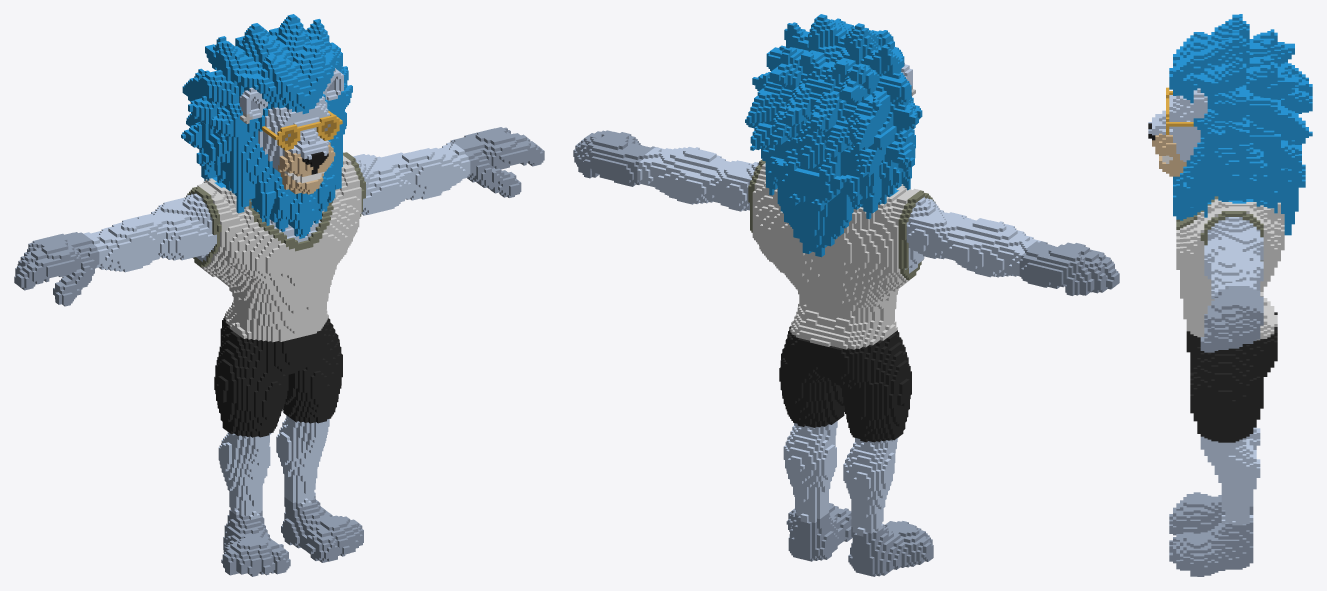
File: 208-BVIsKwq5.glb
3 views of the same model, side by side, from view 1: azimuth 30°, elevation 25°; view 2: azimuth 150°, elevation 25°; view 3: azimuth 270°, elevation 25° (orthographic). The views are drawn at different scales.
Visible parts, largest first — view 1: big_smile; view 2: big_smile; view 3: big_smile.
Part boxes in pixels (left/top/right/bottom): big_smile: left=14, top=14, right=544, bottom=576; big_smile: left=573, top=14, right=1119, bottom=576; big_smile: left=1148, top=14, right=1312, bottom=576.
Bounding box in the file's own units: 17.2 × 16.5 × 4.7.
6 materials, 6 textured.
